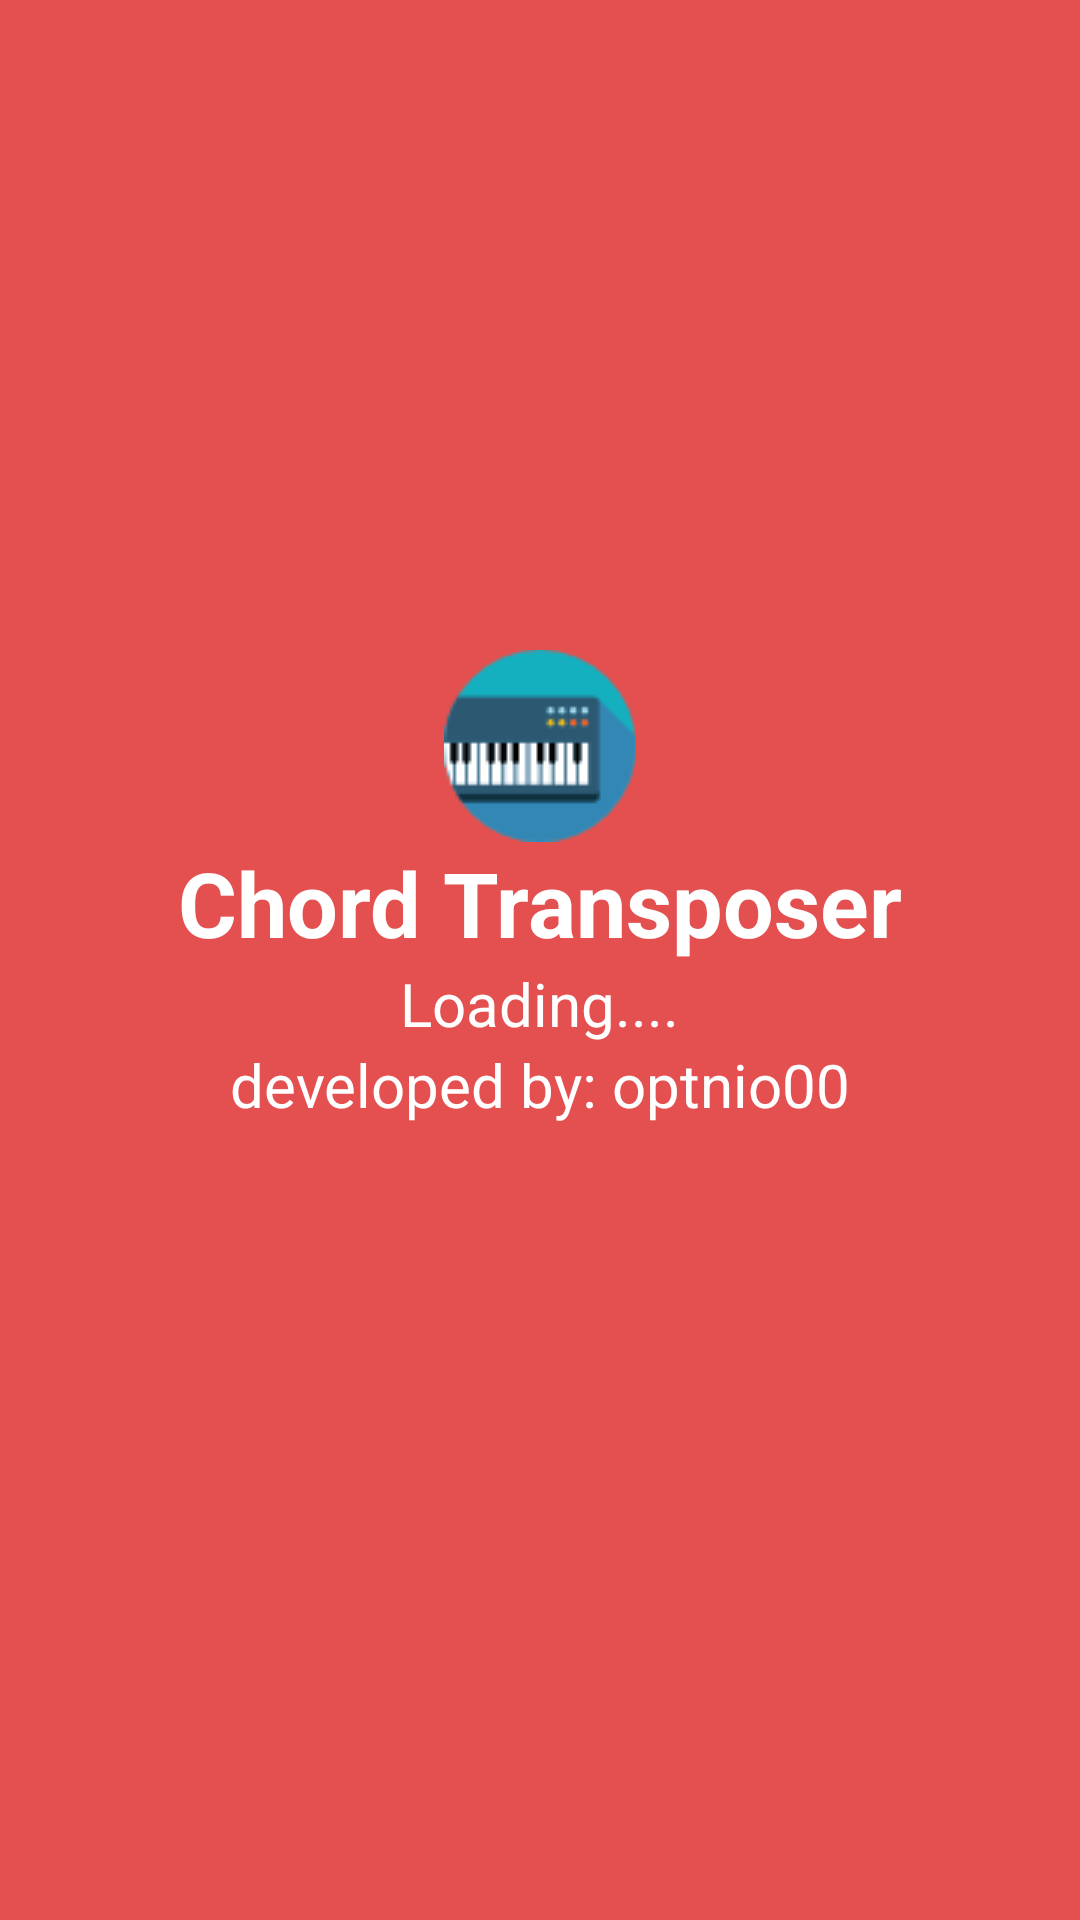

Named icons in this screenshot (1080px x 1920px) and their centers, [x,y]:
chord reader: [540,746]
